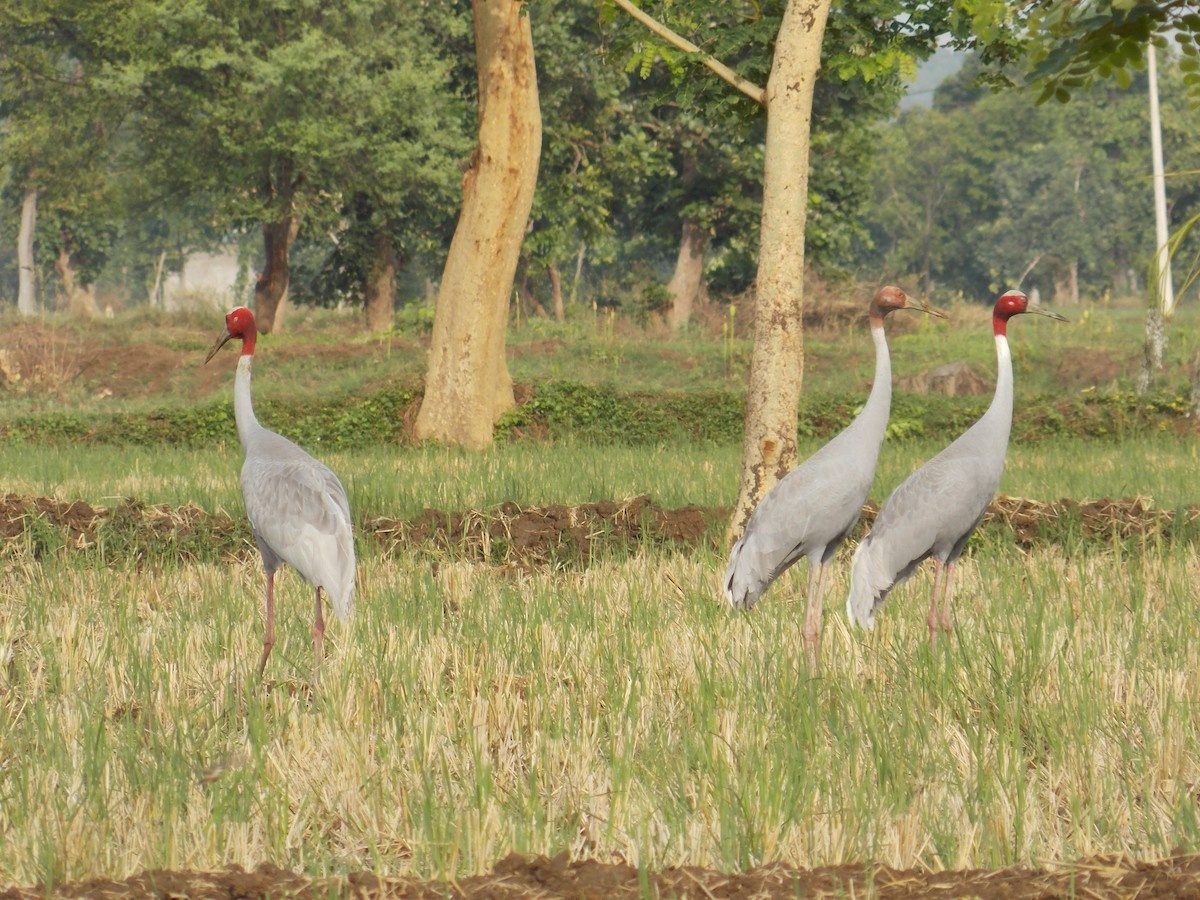crane: (716, 275, 947, 641), (863, 288, 1078, 667), (205, 292, 370, 672)
